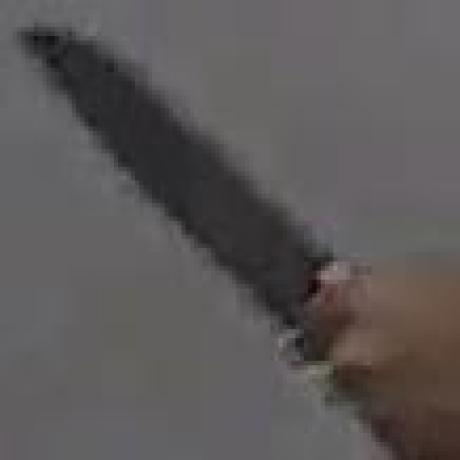weapon: (19, 20, 358, 364)
